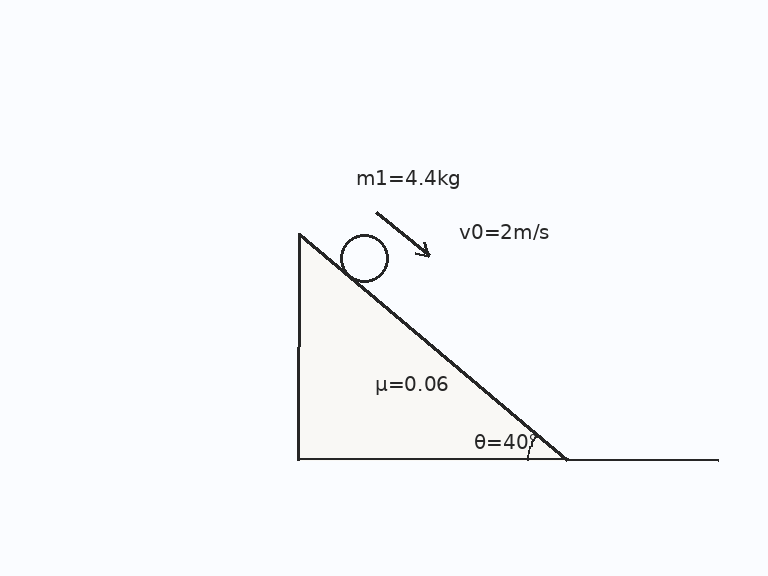ball: (338, 232, 390, 284)
ramp: (297, 232, 570, 462)
